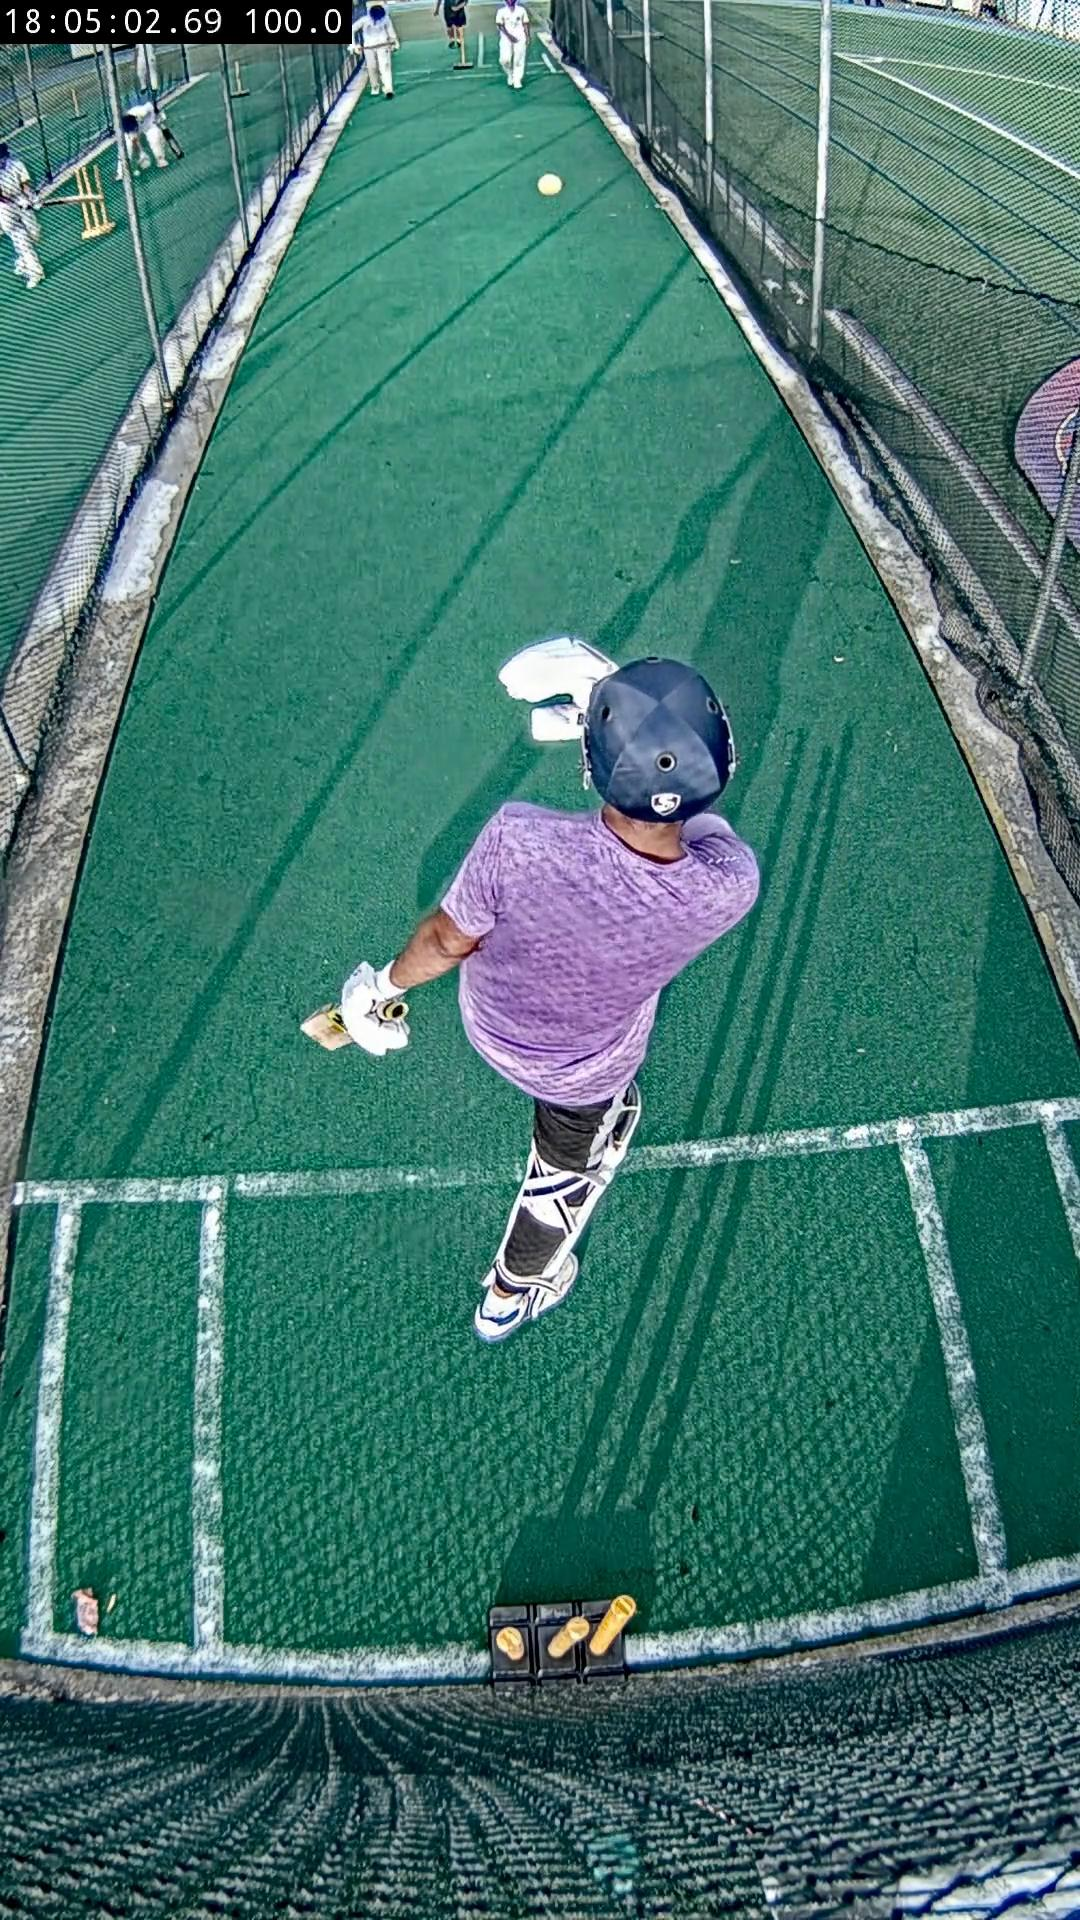ball: (537, 173, 563, 195)
bat: (301, 1005, 352, 1050)
gloves: (498, 634, 618, 742), (338, 964, 409, 1058)
helmet: (585, 657, 735, 822)
stumps: (488, 1594, 634, 1684)
